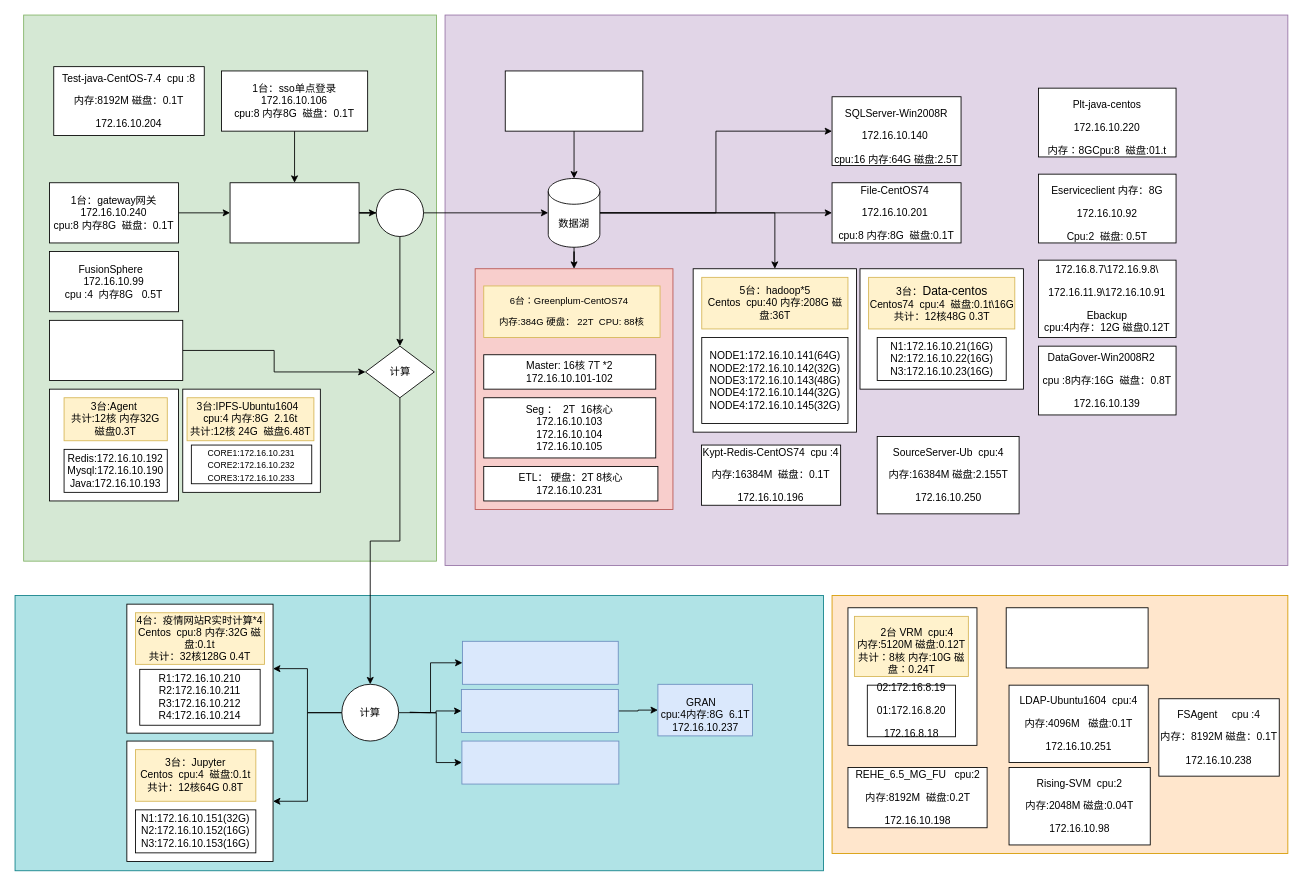
Image size: 1303x886. Some labels were removed from this diagram. The box of each missing label's shape, as (x1, y1, x2, y2) in pixels:
172.16.10.60:HPC-MGMT cpu :50 内存 :64G 磁盘 :205.247T: (461, 740, 619, 784)
235：RStudioServer cpu:8 内存 :64G 磁盘 :4.1T: (462, 640, 618, 684)
239：RStudioServer cpu:8 内存 :64G 磁盘 :4.1T: (461, 689, 618, 732)
dataX-win2012 172.16.10.215 cpu :8 内存 :16G 磁盘 :0.2T: (504, 70, 643, 131)
FeiYan-Win2008R2 cpu :8 内存 :32768 磁盘 :0.5T 172.16.10.94: (49, 319, 183, 381)
Win2008R2 172.16.8.8 cpu :4 内存 :8192M 磁盘 :0.5T: (1005, 607, 1148, 668)
应用: (375, 188, 424, 236)
科研平台 172.16.10.197 Cpu :8 内存 :32G 磁盘： 0.1t: (229, 182, 359, 243)
